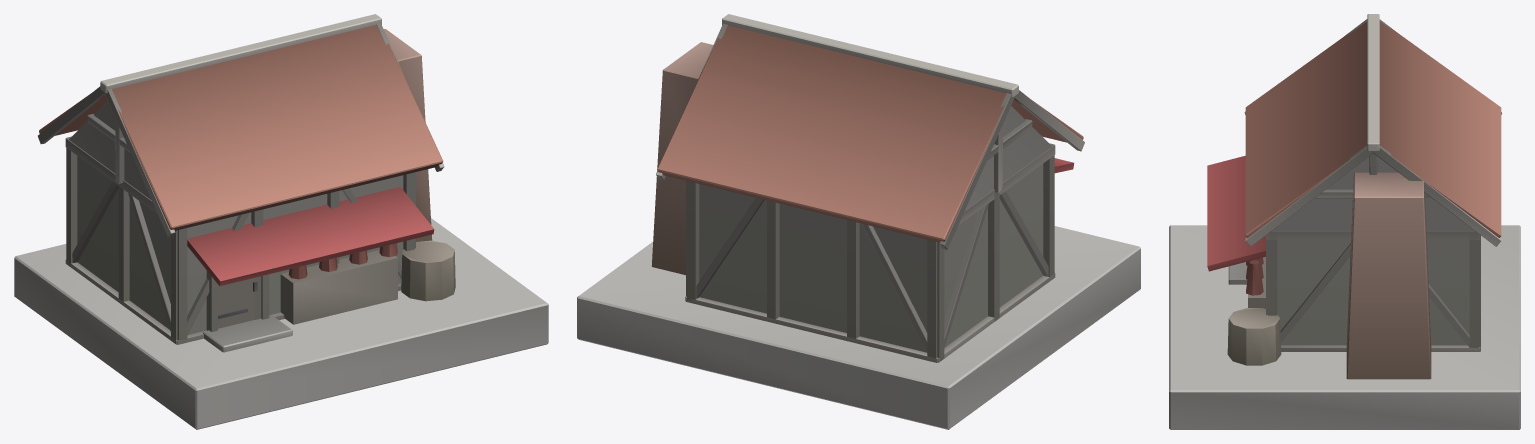
Rendered from butcher_l1_lod1.glb.
3 views of the same model, side by side, from view 1: azimuth 30°, elevation 25°; view 2: azimuth 150°, elevation 25°; view 3: azimuth 270°, elevation 25° (orthographic). The views are drawn at different scales.
Visible parts, largest first — view 1: butcher_l1_lod1; view 2: butcher_l1_lod1; view 3: butcher_l1_lod1.
Boxes of the visible parts, x1,y1,x2,y2 form: butcher_l1_lod1: [14, 14, 548, 429]; butcher_l1_lod1: [577, 14, 1140, 429]; butcher_l1_lod1: [1169, 14, 1520, 429].
Bounding box in the file's own units: 7.6 × 5.48 × 6.8.
